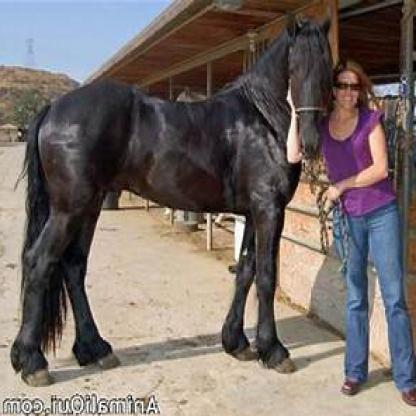horse: (8, 14, 336, 387)
